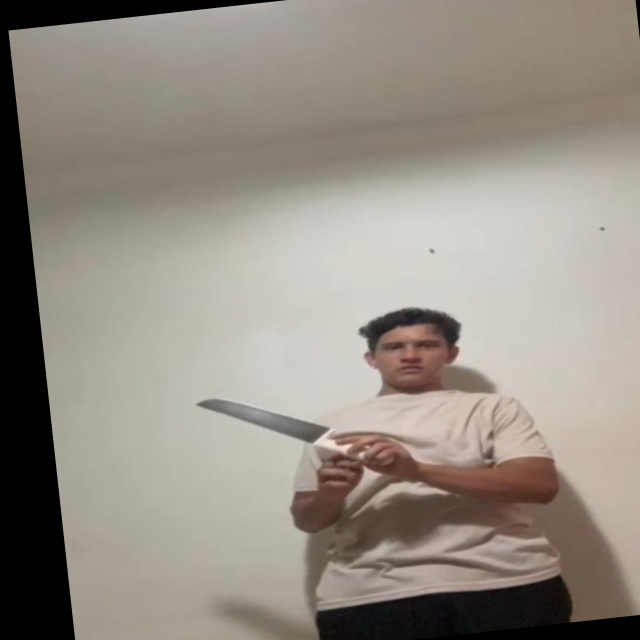Sharp-Object: (199, 385, 329, 448)
